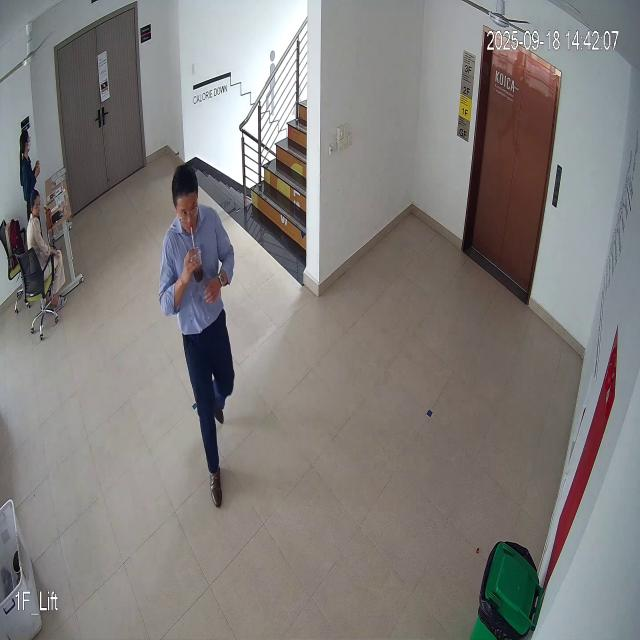face: (167, 161, 203, 239)
